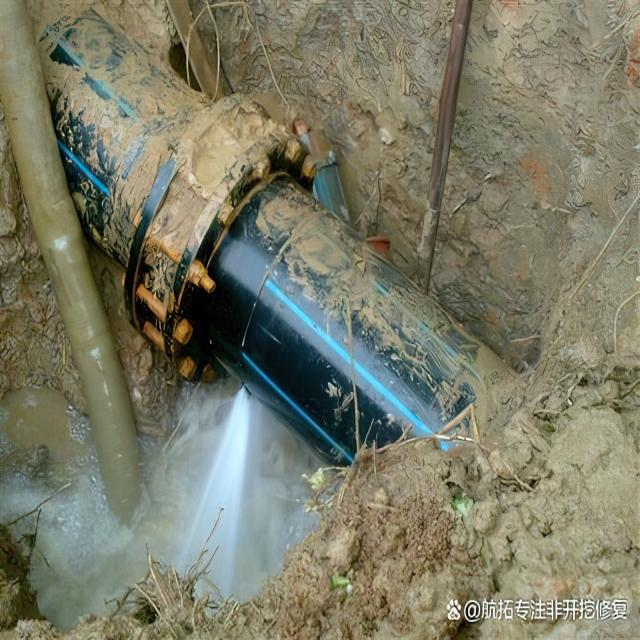leak: (169, 380, 252, 605)
